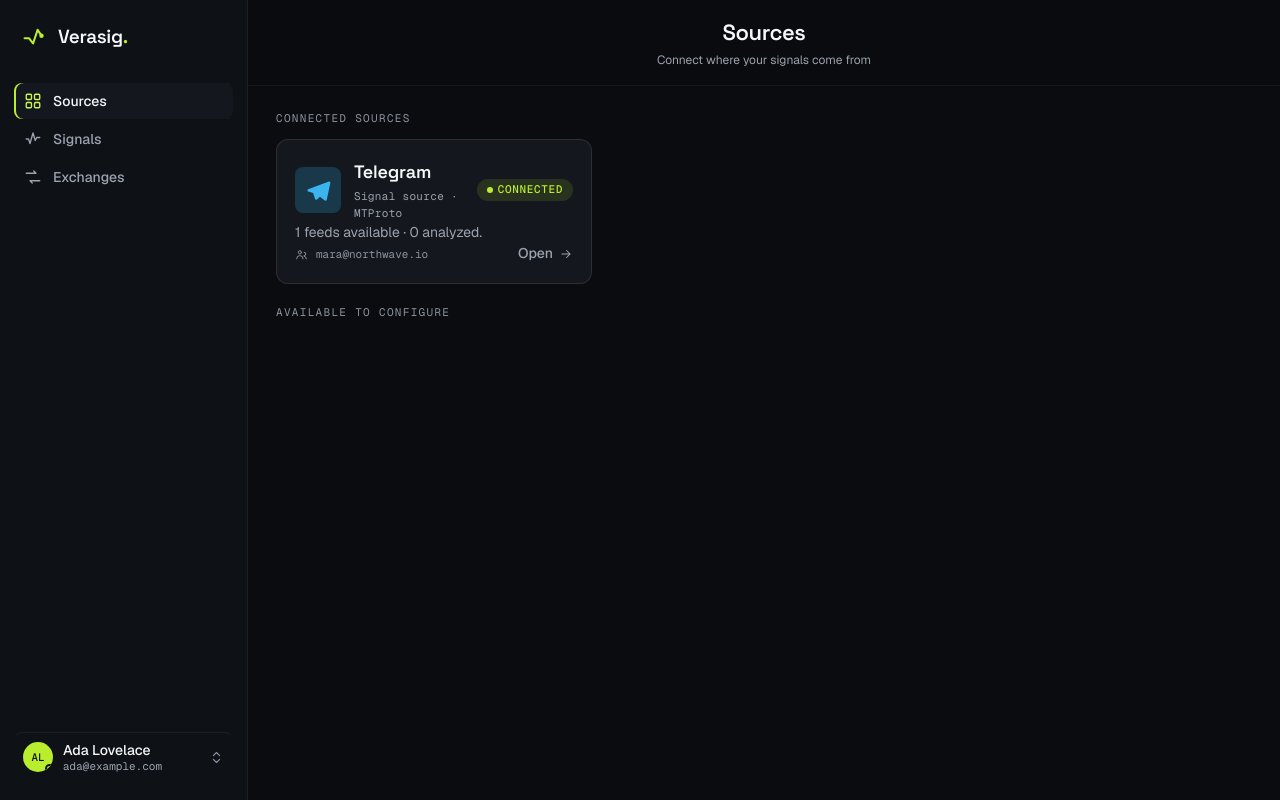
AppRoutes › shows verified feed signals from the backend Signals tab
Expected: the text "Sources" below "Verasig" is shown, x1=53 y1=92 x2=107 y2=110
Step 1. Click the button "Signals" → (124, 139), box x1=14 y1=121 x2=233 y2=157
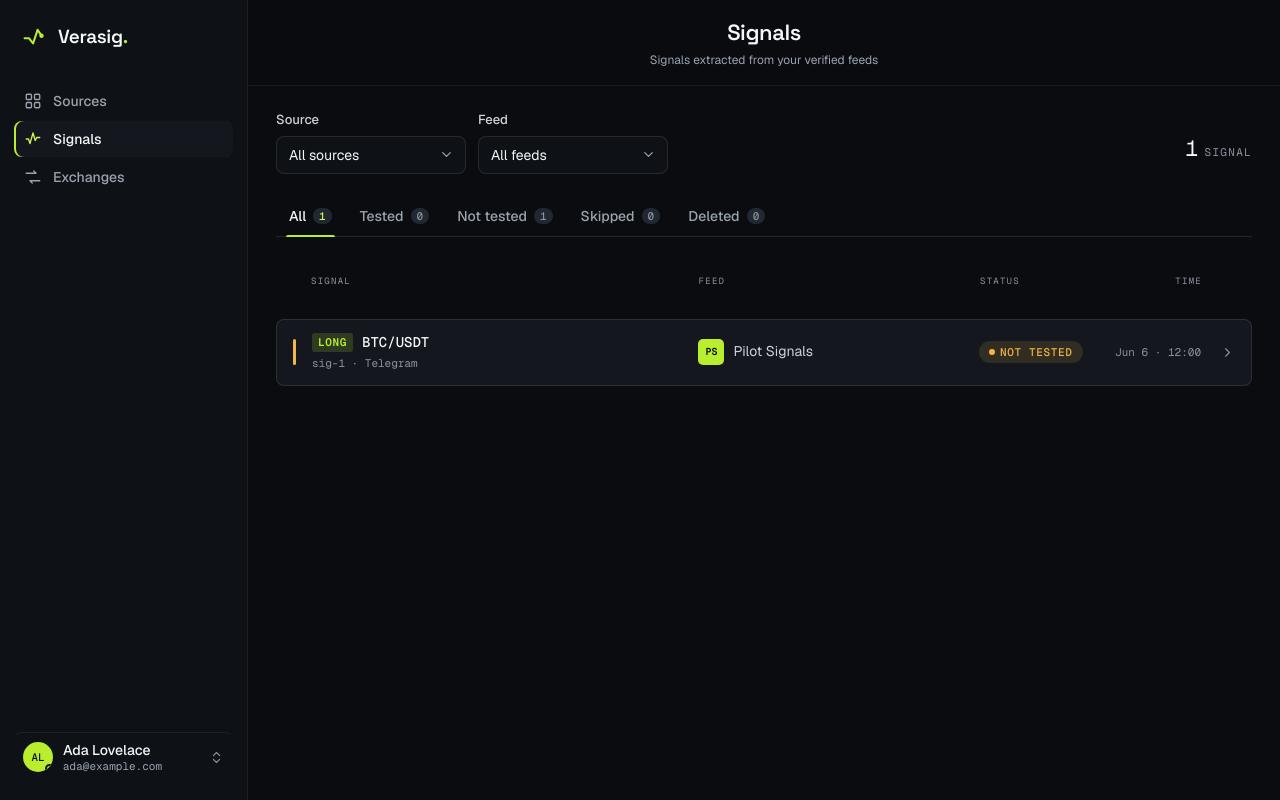
Now the text "BTC/USDT" is shown, box x1=362 y1=333 x2=429 y2=351
